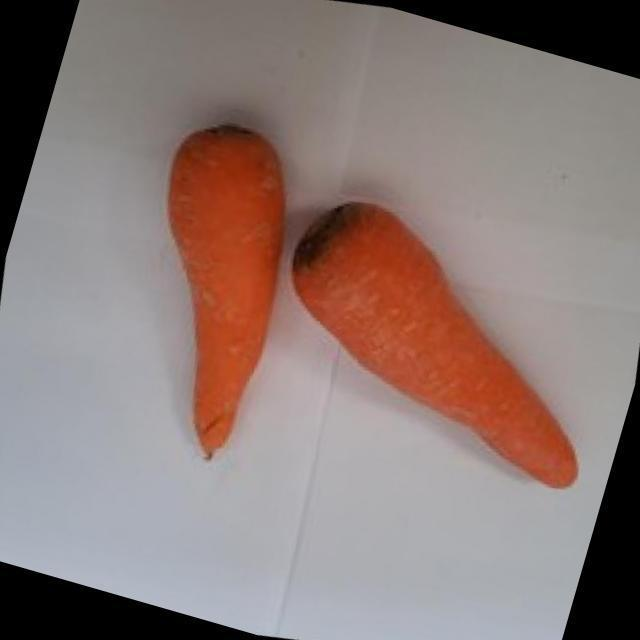Carrot: (292, 204, 578, 488), (169, 125, 285, 458)
